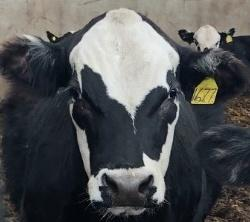muzzles: (88, 168, 168, 217)
